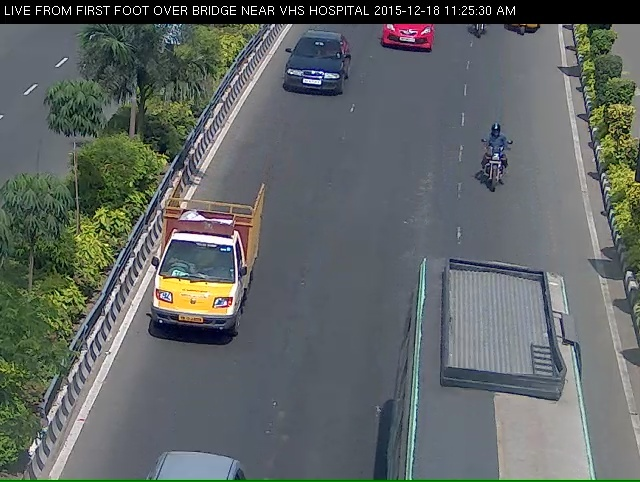Auto: (140, 193, 261, 372)
Bus: (385, 259, 612, 482)
Car: (277, 31, 353, 107), (375, 23, 438, 59)
Person: (479, 120, 514, 197)
